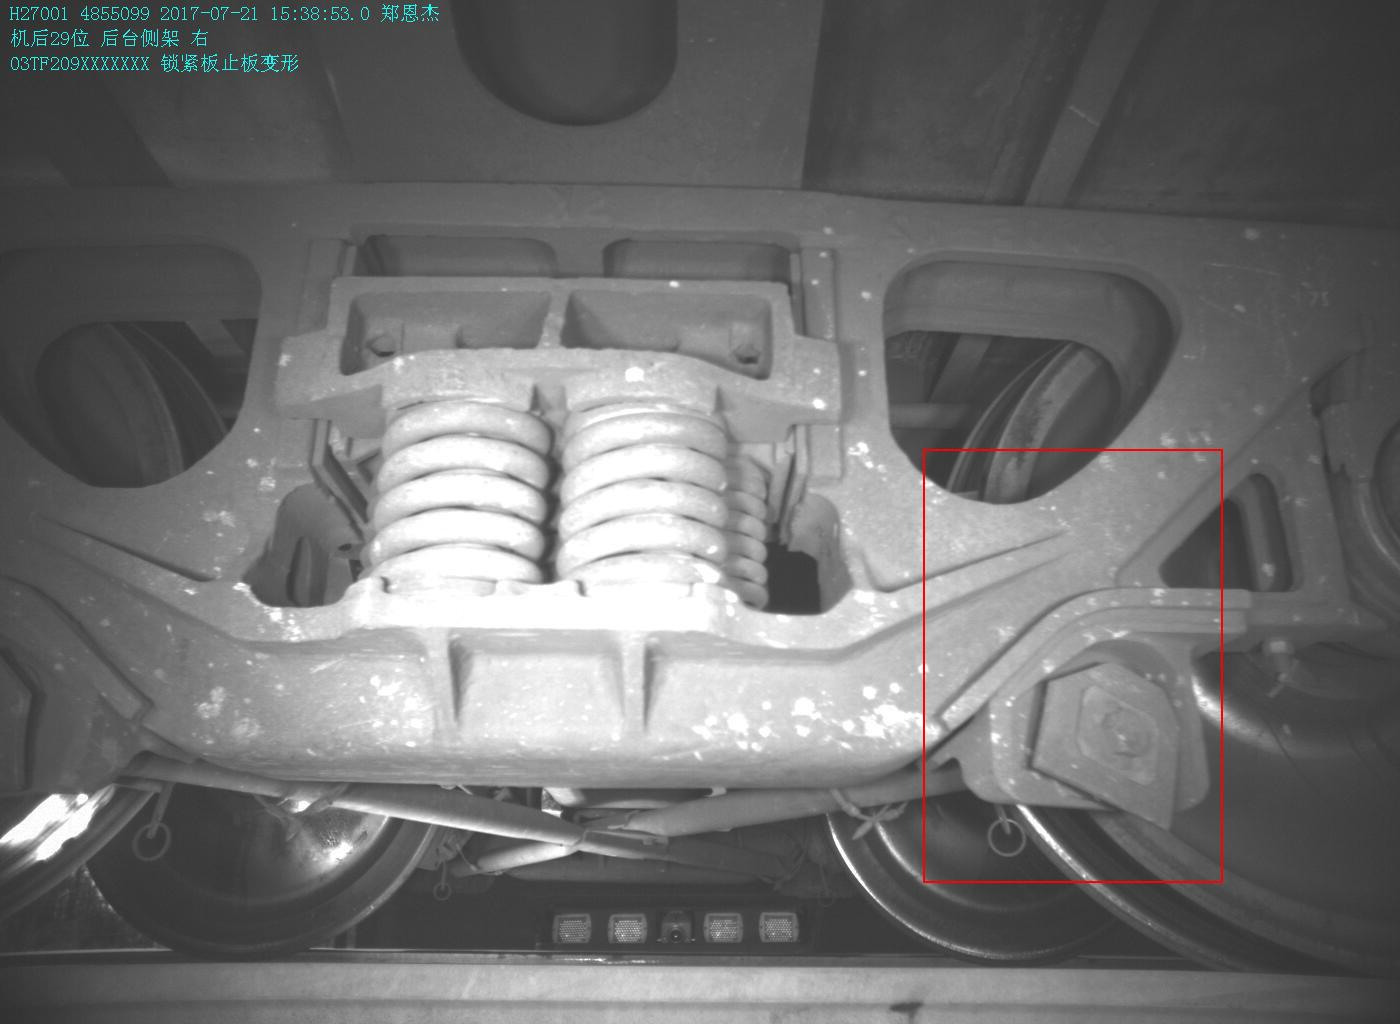Locking plate: (990, 637, 1209, 831)
